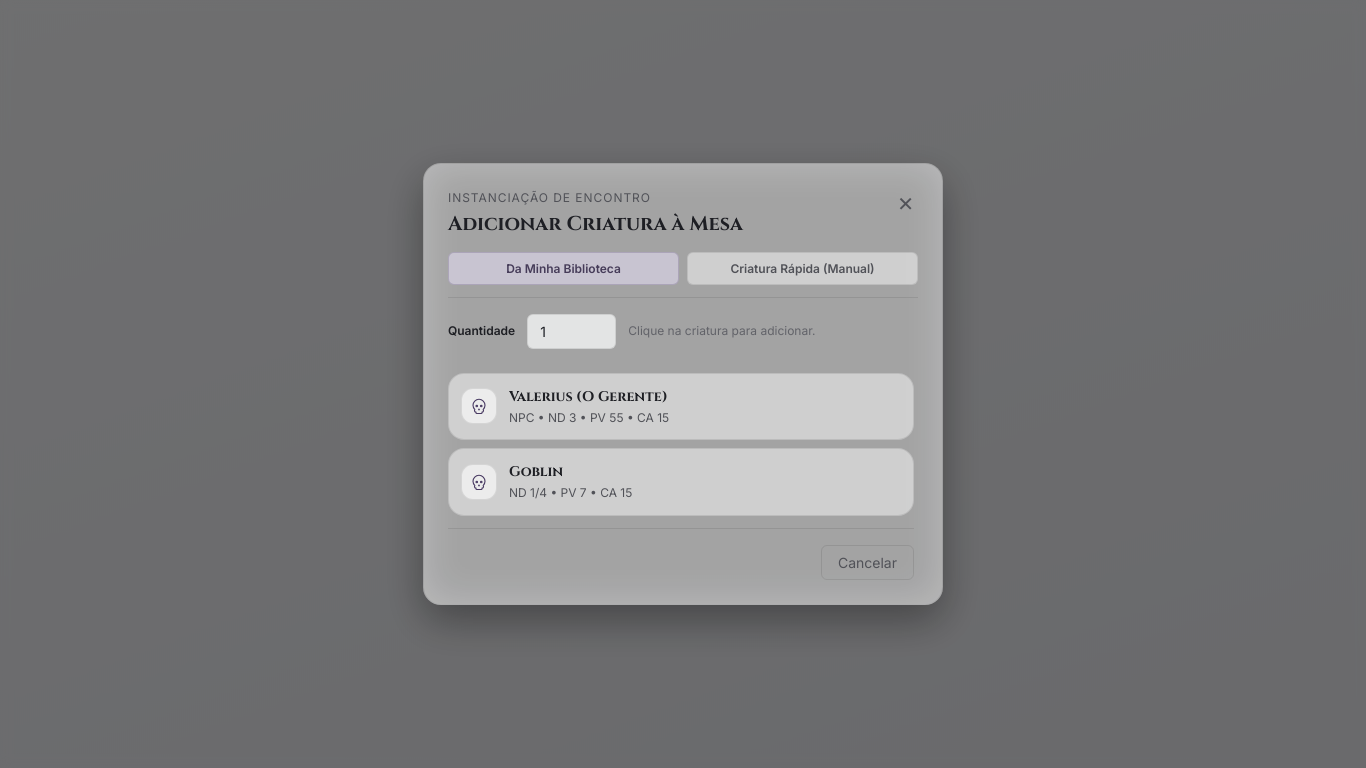
Test: AddCreatureModal — biblioteca › se falhar, mostra o erro e continua aberto
Click the button with aria-label "Adicionar Goblin à sessão" at (479, 482), box x1=448 y1=448 x2=914 y2=516
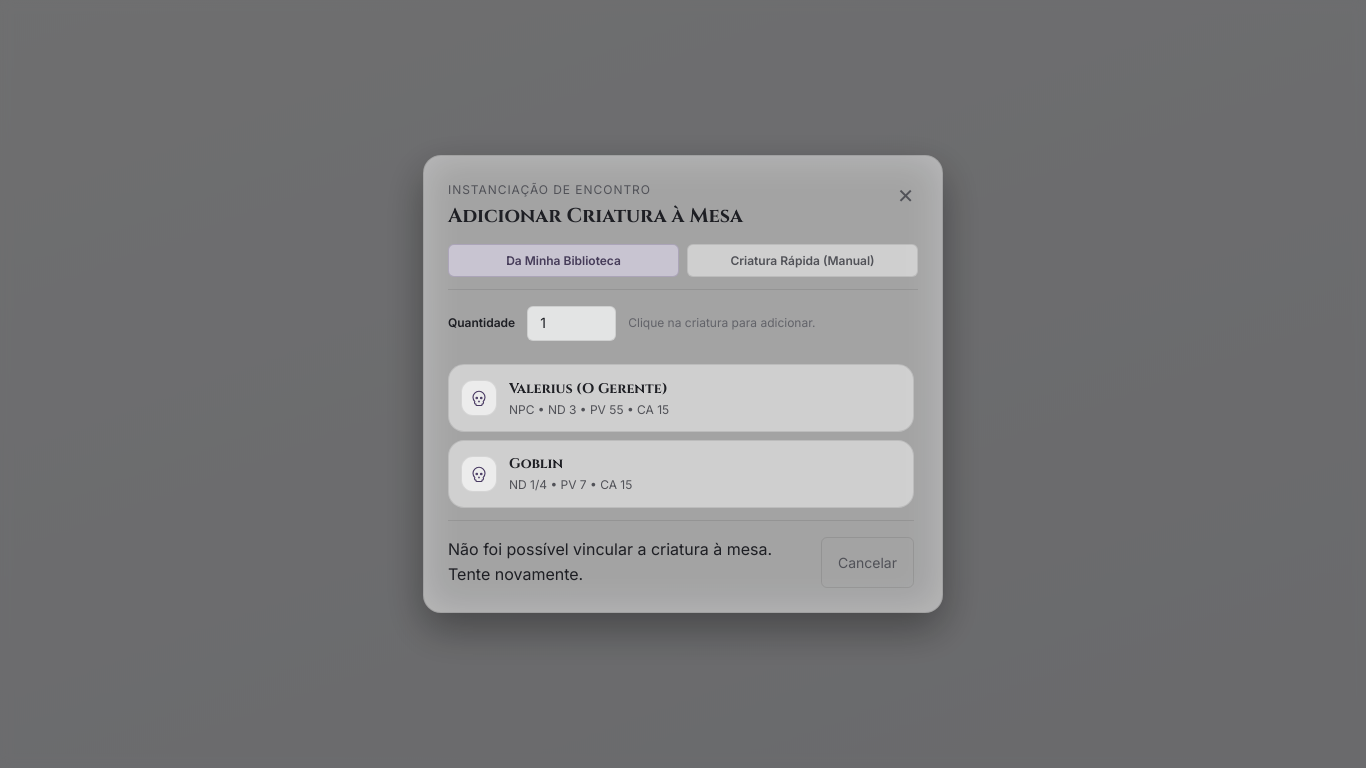
Expected: the button with aria-label "Adicionar Goblin à sessão" is enabled, x1=448 y1=440 x2=914 y2=508
Now the message shows "Não foi possível", box x1=448 y1=539 x2=772 y2=584
